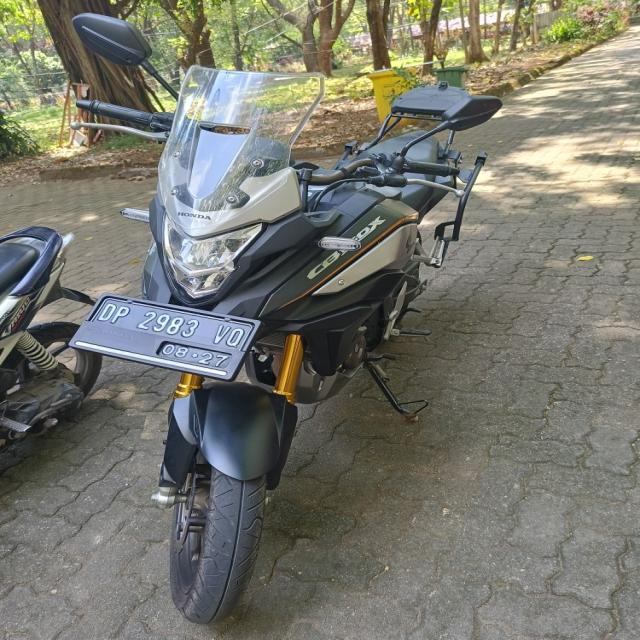plates: (85, 294, 258, 384)
